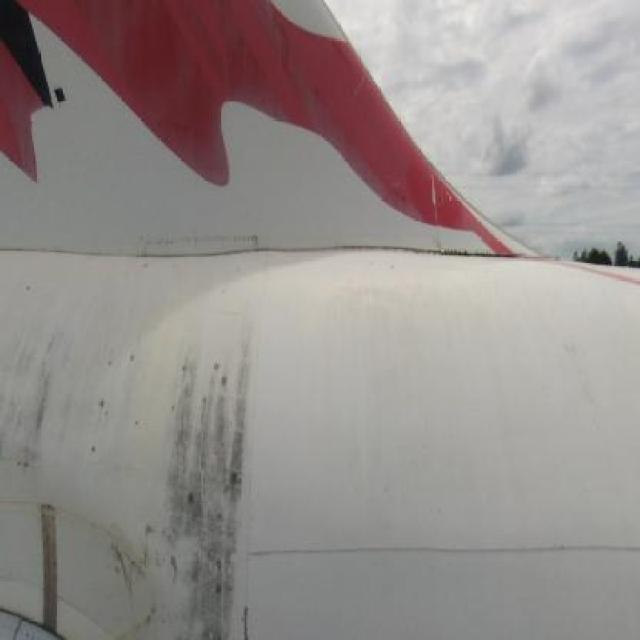Missing-Rivet: (38, 502, 65, 636), (141, 232, 262, 258)
Rust: (1, 250, 259, 639), (404, 244, 544, 271)
Scartch: (92, 514, 197, 631), (422, 168, 458, 229)
